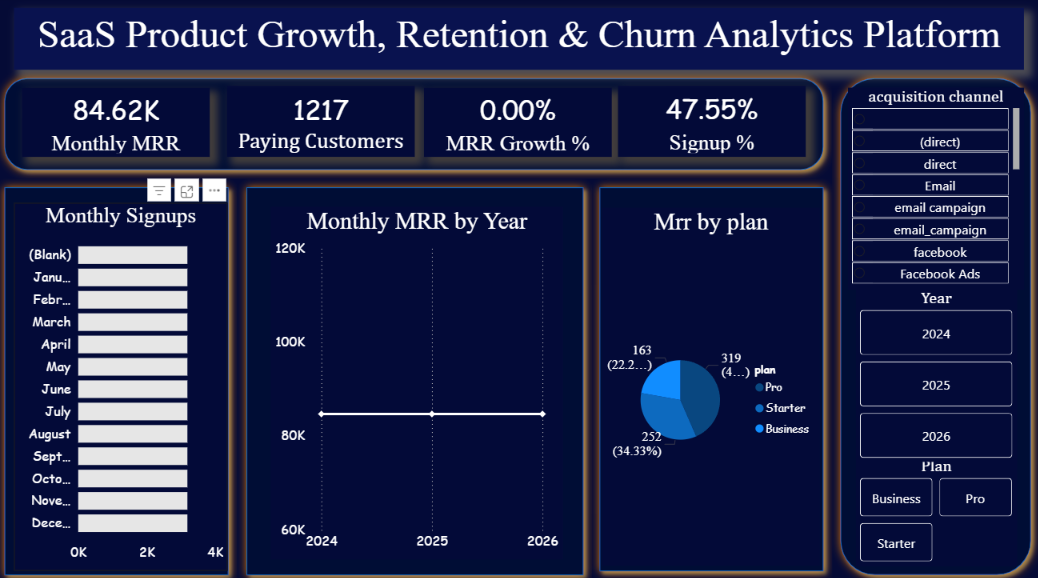

Layout of this report page (visuals, bound fields, positions):
{"tool":"powerbi","page":{"name":"Growth Overview","canvas":[1280,720],"ordinal":0},"visuals":[{"type":"shape","box":[0,89.4,1025.8,133.3],"z":0},{"type":"shape","box":[0,223.3,295.7,496.9],"z":1000},{"type":"shape","box":[296.9,223.3,434.4,496.9],"z":2000},{"type":"shape","box":[730.1,223.3,295.7,492],"z":3000},{"type":"shape","box":[1025.8,89.4,254.5,630.3],"z":4000},{"type":"card","fields":{"Values":["DimDate.Monthly MRR"]},"box":[31.9,111.7,230.7,84.7],"z":5000},{"type":"card","fields":{"Values":["DimDate.Paying Customers"]},"box":[283.4,109.2,230.7,87.1],"z":6000},{"type":"card","fields":{"Values":["DimDate.MRR Growth %"]},"box":[525.2,111.7,230.7,84.7],"z":7000},{"type":"card","fields":{"Values":["DimDate.Signup to Activation %"]},"box":[763.2,109.2,230.7,87.1],"z":8000},{"type":"lineChart","fields":{"Category":["DimDate.Year"],"Y":["DimDate.Monthly MRR"]},"box":[337.4,257.7,358.3,433.1],"z":9000},{"type":"pieChart","title":"Mrr by plan","fields":{"Category":["saas_product_analytics subscriptions_clean.plan"],"Y":["CountNonNull(saas_product_analytics subscriptions_clean.mrr)"]},"box":[743.7,259.3,267.6,439.1],"z":10000},{"type":"clusteredBarChart","title":"Monthly Signups ","fields":{"Category":["saas_product_analytics cleaned_users.month.Variation.Date Hierarchy.Month"],"Y":["DimDate.Monthly Signups"]},"box":[22,252.5,262.1,451.5],"z":11000},{"type":"listSlicer","title":"acquisition channel","fields":{"Values":["saas_product_analytics users_clean - copy.acquisition_channel"]},"box":[1045.4,111.7,216,247.9],"z":12000},{"type":"advancedSlicerVisual","title":"Plan","fields":{"Values":["saas_product_analytics subscriptions_clean.plan"]},"box":[1055.2,565.6,197.5,132.5],"z":13000},{"type":"advancedSlicerVisual","title":"Year","fields":{"Values":["DimDate.Year"]},"box":[1055.2,359.5,197.5,211],"z":14000},{"type":"textbox","box":[22.1,13.5,1239.3,76.1],"z":14004}]}

Visuals, with their boxes in screenshot pixels (x1, y1, x2, y2), scaled from the page's 1280x720 canvas onto the 1038x578 screenshot:
shape: 0,72,832,179
shape: 0,179,240,577
shape: 241,179,593,577
shape: 592,179,832,574
shape: 832,72,1037,577
card - DimDate.Monthly MRR: 26,90,213,158
card - DimDate.Paying Customers: 230,88,417,158
card - DimDate.MRR Growth %: 426,90,613,158
card - DimDate.Signup to Activation %: 619,88,806,158
lineChart - DimDate.Year x DimDate.Monthly MRR: 274,207,564,555
"Mrr by plan" pieChart: 603,208,820,561
"Monthly Signups " clusteredBarChart: 18,203,230,565
"acquisition channel" listSlicer: 848,90,1023,289
"Plan" advancedSlicerVisual: 856,454,1016,560
"Year" advancedSlicerVisual: 856,289,1016,458
textbox: 18,11,1023,72
